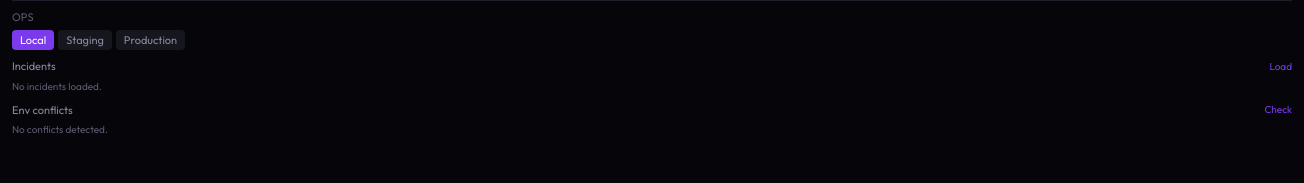
Test case: OpsPanels (US-UI2-09) › loads conflicts from /api/conflicts and renders them with risk chip
The width and height of the screenshot is (1304, 183).
Click the button with test id "load-conflicts".
click(1278, 110)  # box [1264, 102, 1292, 117]
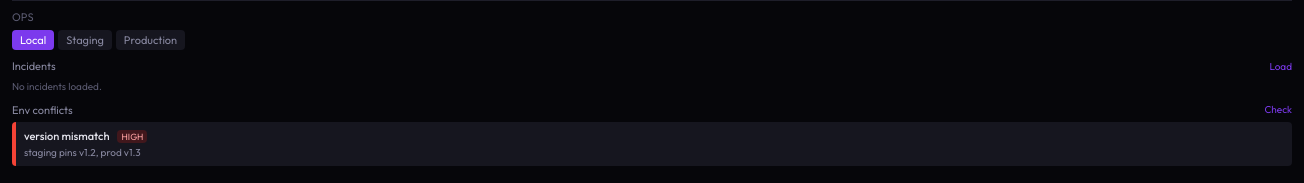
Expected: the list item with test id "conflict-0" shows "version mismatch", [24, 129, 110, 143]
Expected: the list item with test id "conflict-0" shows "HIGH", [122, 130, 144, 142]
